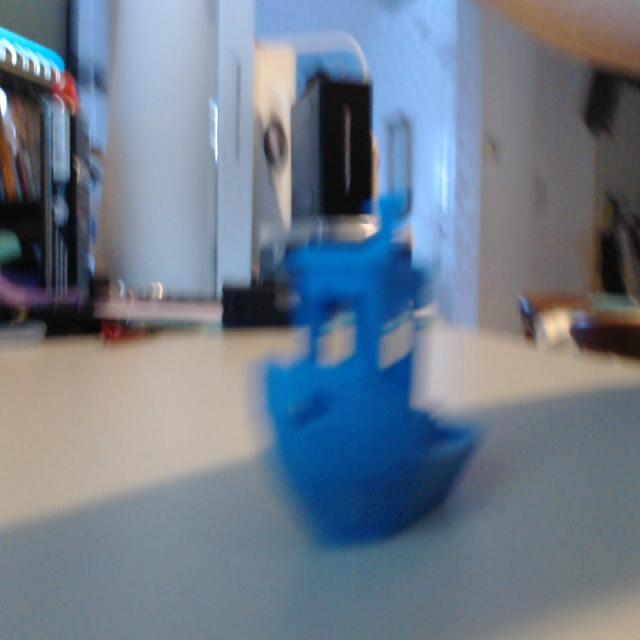benchy: (259, 191, 483, 544)
